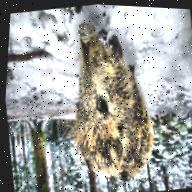boar: (47, 19, 166, 190)
